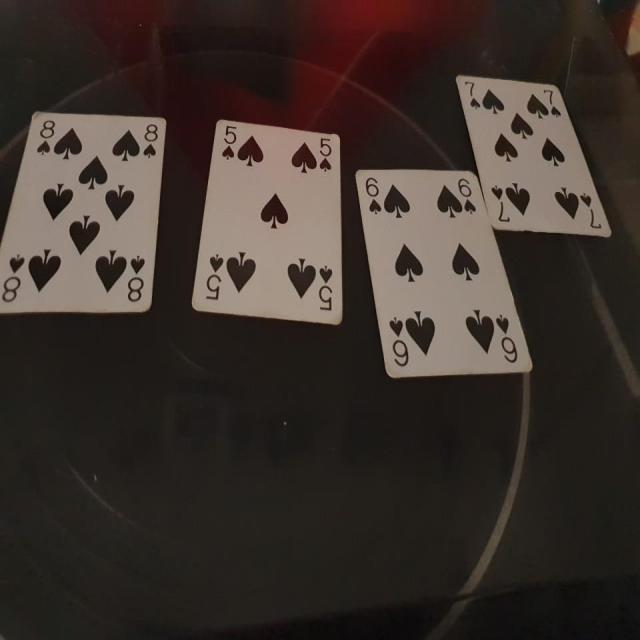5 Spades: (195, 112, 347, 342)
6 Spades: (351, 161, 538, 390)
7 Spades: (454, 67, 618, 249)
8 Spades: (1, 102, 170, 328)
